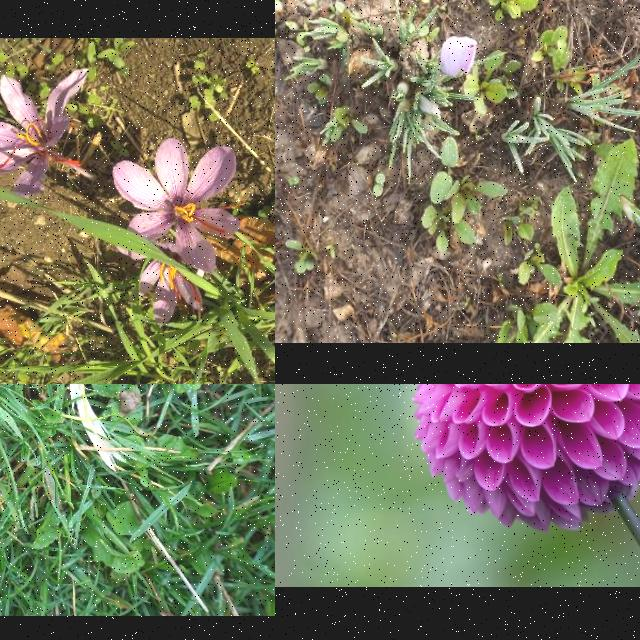flower: (113, 138, 249, 272), (0, 69, 88, 197), (116, 242, 204, 326), (438, 36, 478, 78)
